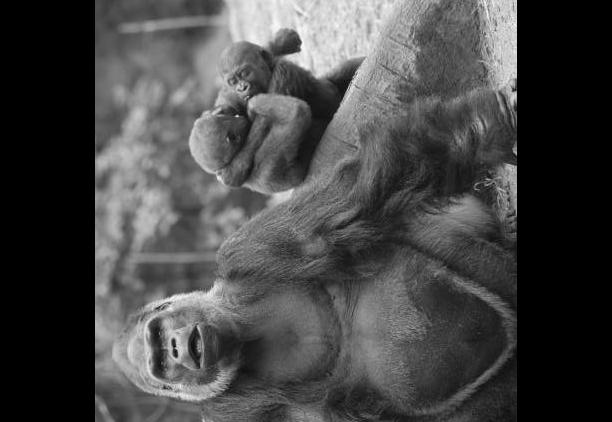gorille_Autres: (95, 168, 504, 422), (168, 17, 340, 196)
